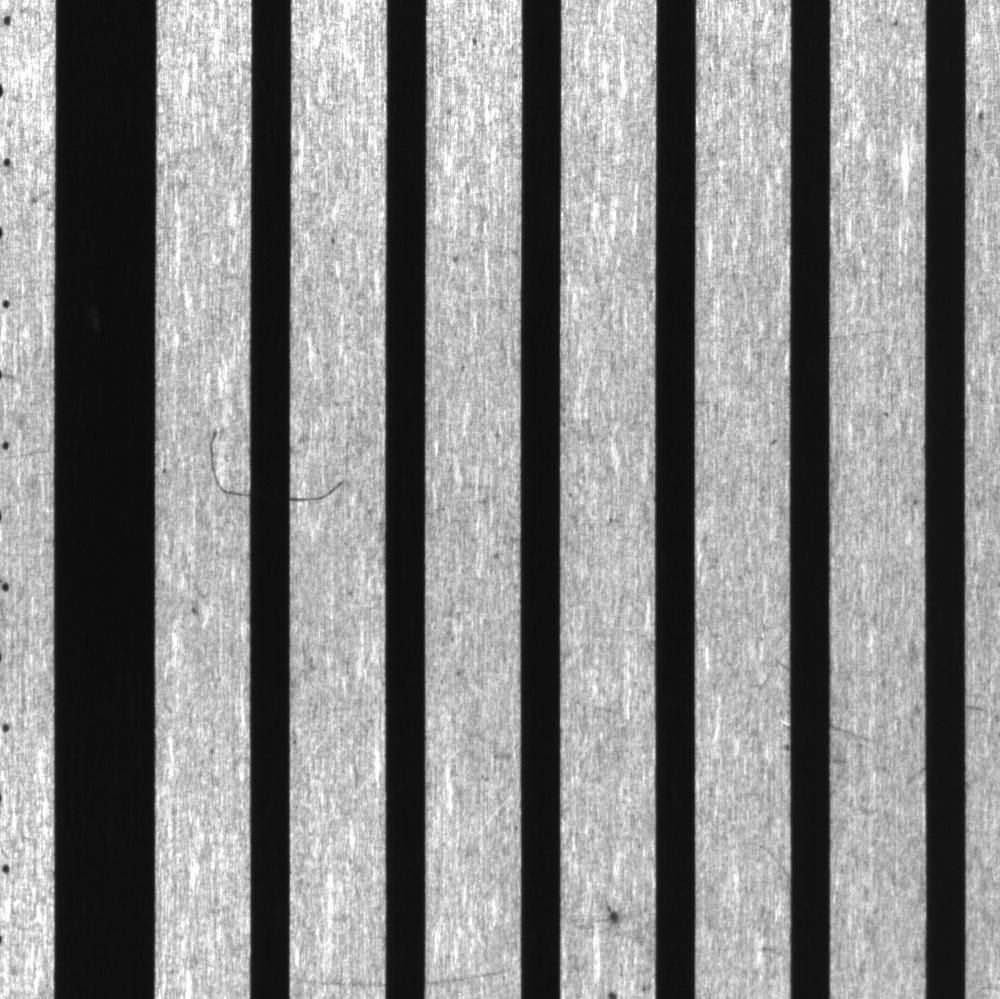Etching: (592, 889, 640, 949)
Scar: (426, 946, 520, 996), (196, 424, 251, 504), (291, 948, 385, 994), (290, 470, 366, 507), (827, 712, 877, 755)
